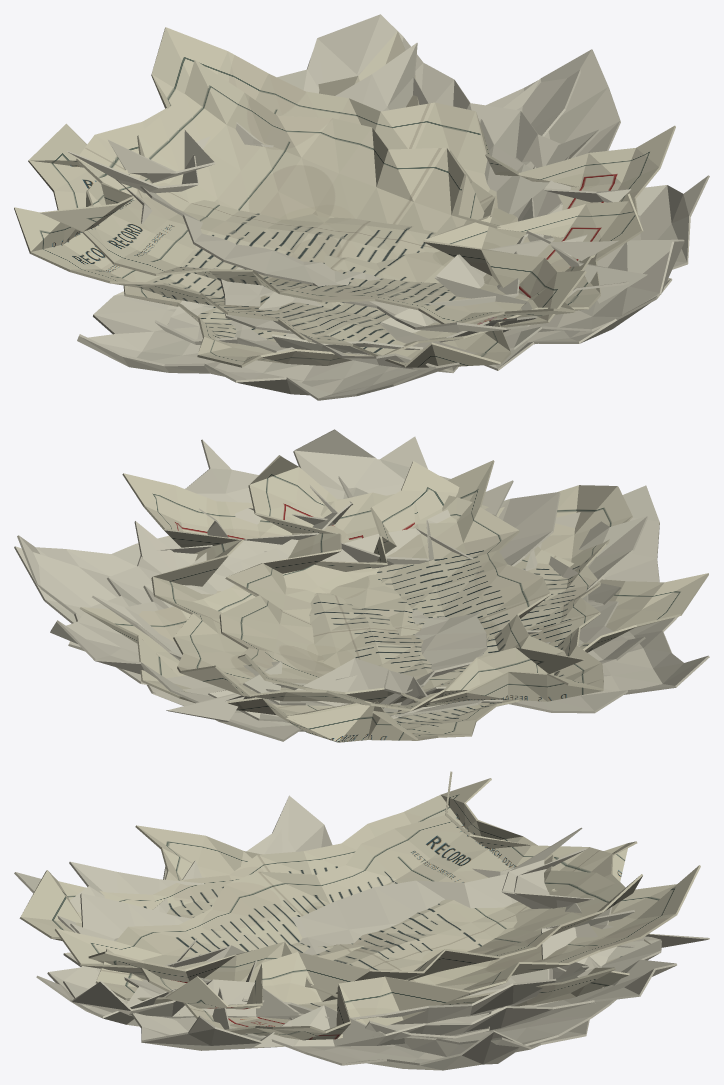
File: DS_Clue_PaperPile_Damaged_V02.fbx
3 renders of one model, top to bottom at view 1: azimuth 30°, elevation 25°; view 2: azimuth 150°, elevation 25°; view 3: azimuth 270°, elevation 25°, orthographic. The views are drawn at different scales.
Visible parts, largest first — view 1: DS_Clue_PaperPile_Damaged_V02; view 2: DS_Clue_PaperPile_Damaged_V02; view 3: DS_Clue_PaperPile_Damaged_V02.
Part boxes in pixels (x1=…): DS_Clue_PaperPile_Damaged_V02: x1=14, y1=14, x2=709, y2=400; DS_Clue_PaperPile_Damaged_V02: x1=14, y1=429, x2=709, y2=742; DS_Clue_PaperPile_Damaged_V02: x1=14, y1=771, x2=709, y2=1070.
Size of the model in its own units: 79.82 by 16.67 by 81.69.
2 materials, 1 textured.
